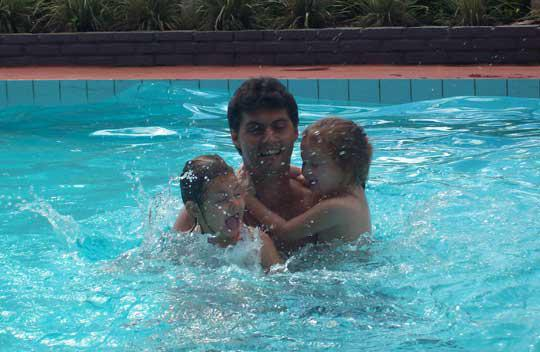swimmer: (224, 74, 324, 232), (272, 116, 370, 250), (170, 146, 272, 266)
